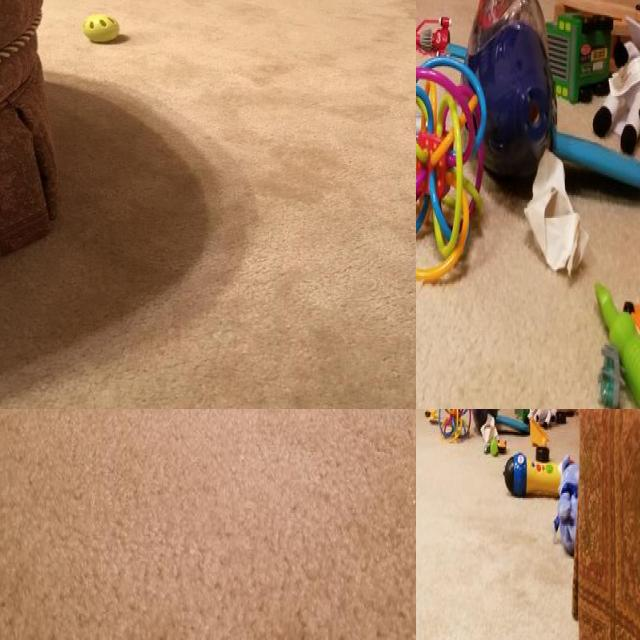toy: (461, 0, 556, 192), (542, 112, 640, 204), (548, 0, 617, 112), (592, 273, 640, 409), (599, 35, 640, 148), (551, 448, 584, 554), (593, 332, 629, 409), (506, 452, 568, 496), (416, 10, 453, 62), (77, 9, 123, 49), (476, 415, 507, 459), (439, 409, 473, 446), (492, 409, 530, 439), (518, 409, 582, 424), (624, 283, 640, 341), (474, 409, 500, 439), (531, 409, 560, 425), (424, 409, 443, 430)
